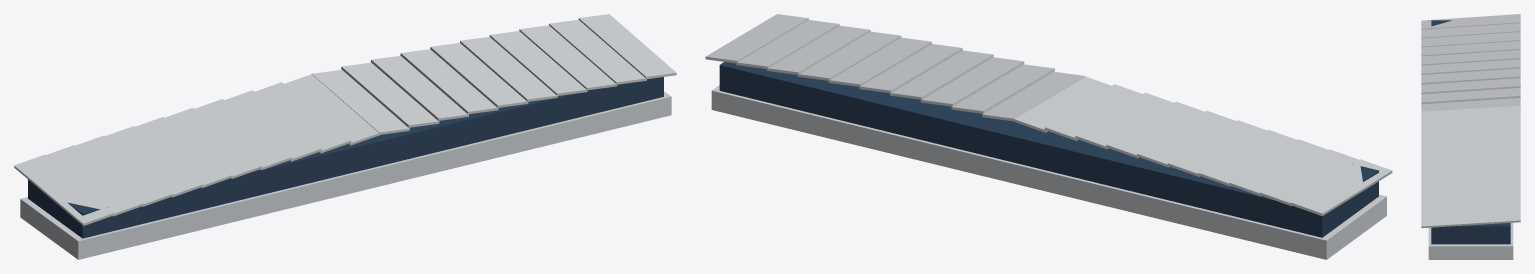
The model's file is the-wing.glb.
3 renders of one model, left to right at view 1: azimuth 30°, elevation 25°; view 2: azimuth 150°, elevation 25°; view 3: azimuth 270°, elevation 25°, orthographic. The views are drawn at different scales.
Parts seen in each view (by area): view 1: the-wing; view 2: the-wing; view 3: the-wing.
Part boxes in pixels (box(x1,y1,x2,y2)): the-wing: box(14, 14, 676, 259); the-wing: box(705, 14, 1392, 259); the-wing: box(1421, 14, 1520, 259).
Size of the model in its own units: 201 by 21.77 by 39.96.
